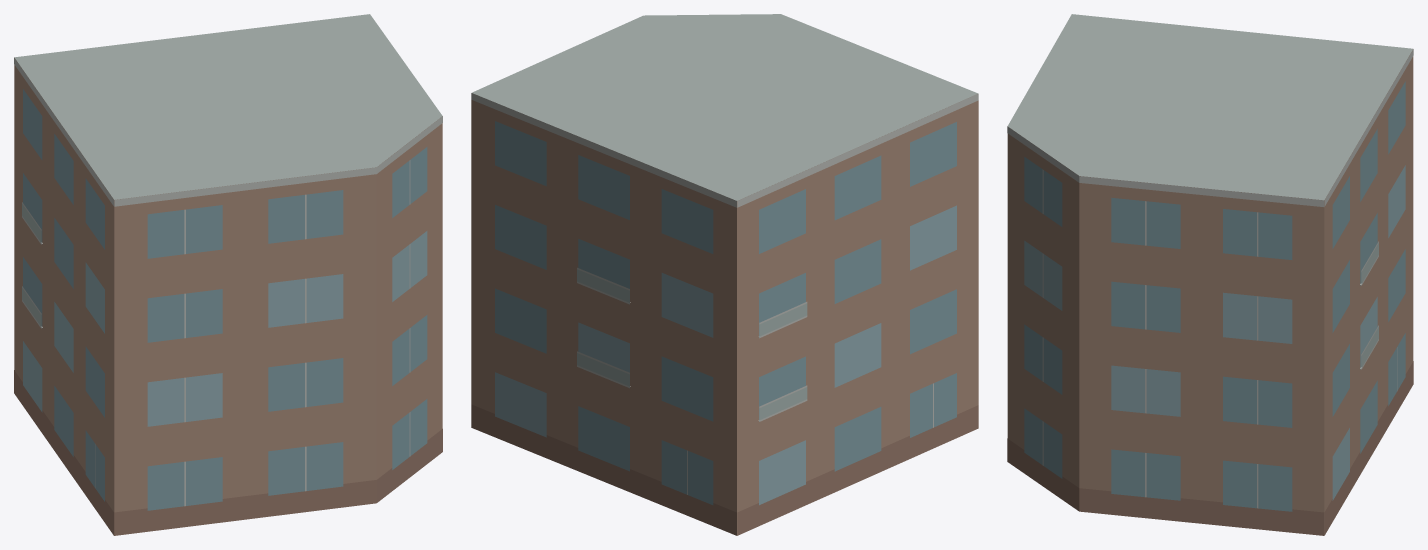
File: survey-upis-32945580.glb
The picture shows the model from 3 angles, left to right: view 1: azimuth 30°, elevation 25°; view 2: azimuth 150°, elevation 25°; view 3: azimuth 270°, elevation 25°; orthographic projection.
Parts seen in each view (by area): view 1: survey-upis-32945580.tmp; view 2: survey-upis-32945580.tmp; view 3: survey-upis-32945580.tmp.
Boxes of the visible parts, x1,y1,x2,y2 form: survey-upis-32945580.tmp: [14, 14, 442, 535]; survey-upis-32945580.tmp: [471, 14, 978, 535]; survey-upis-32945580.tmp: [1007, 14, 1413, 535].
Bounding box in the file's own units: 14.12 × 11.85 × 13.
